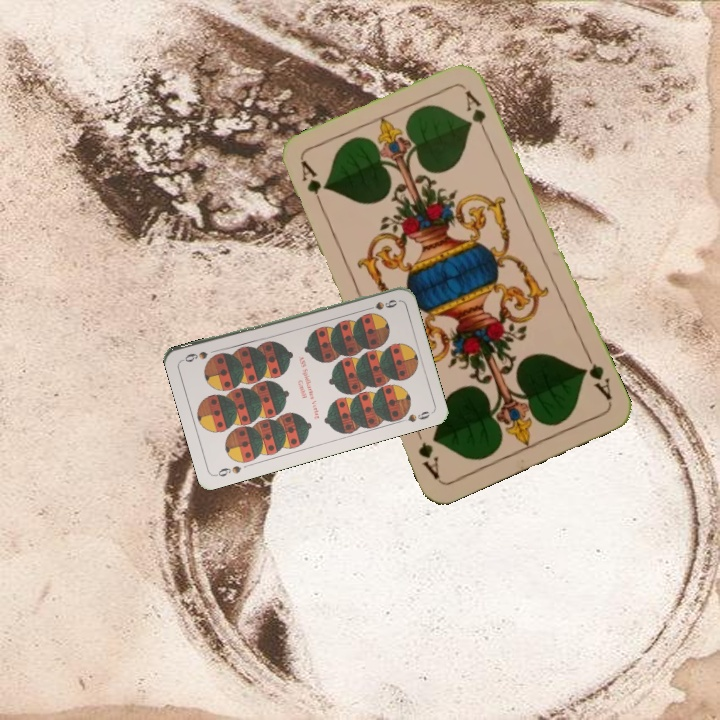GA: (578, 349, 615, 404), (296, 157, 327, 214)
S9: (360, 296, 399, 314), (212, 461, 244, 479)
